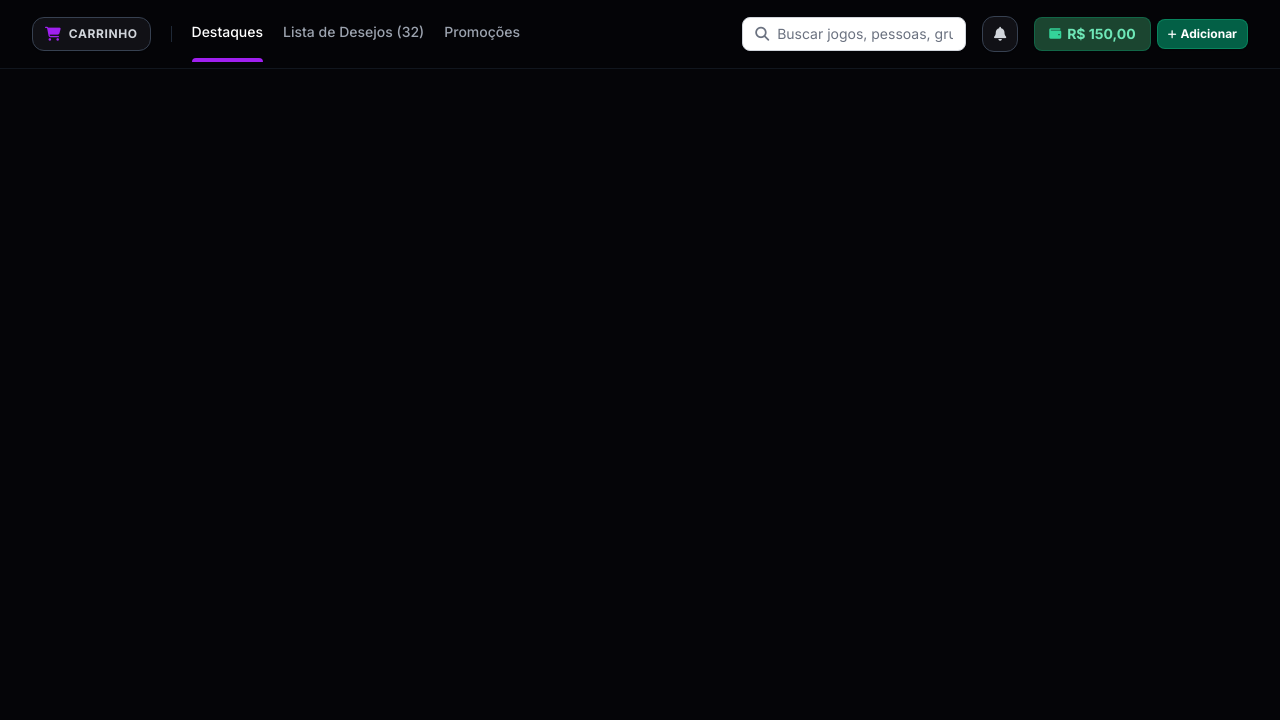
it: Header Component › abre o extrato da carteira (T-04) ao clicar no saldo quando autenticado
The image size is (1280, 720).
Click the button named "Ver extrato da carteira". click: [1092, 34]
box: [1034,17,1151,51]
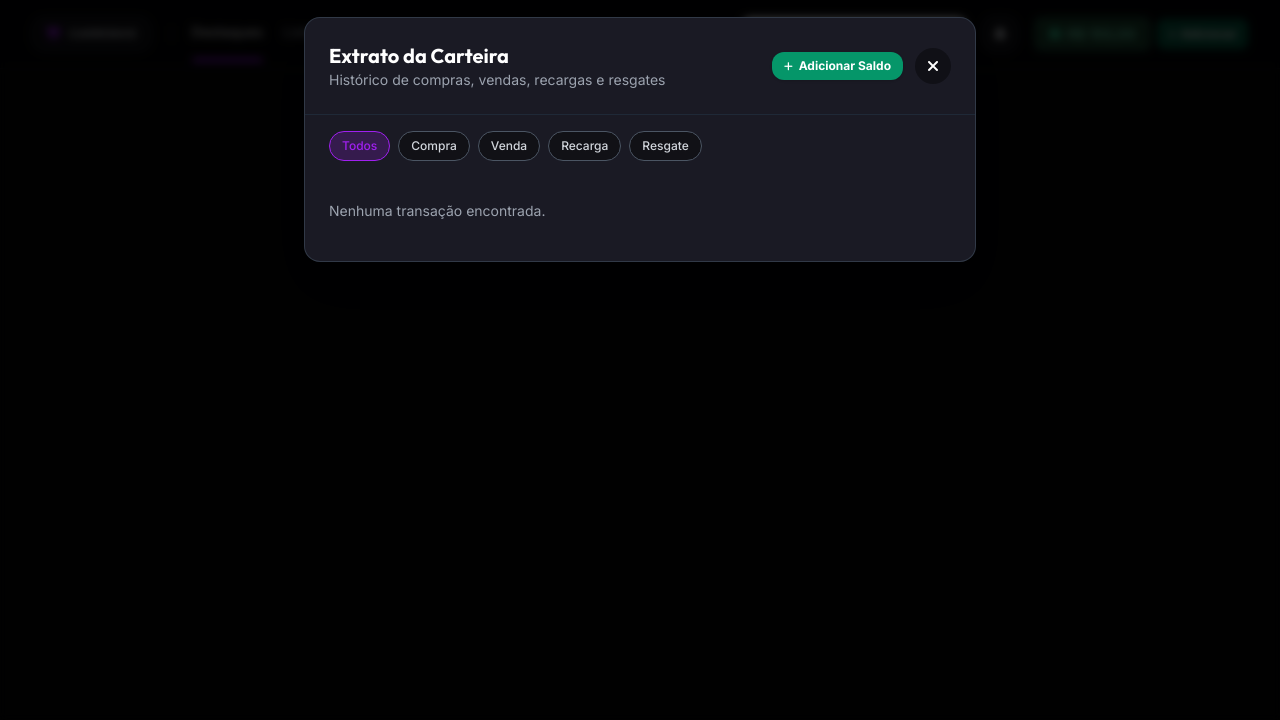
Now the heading "Extrato da Carteira" is shown, box [329,43,509,68]
